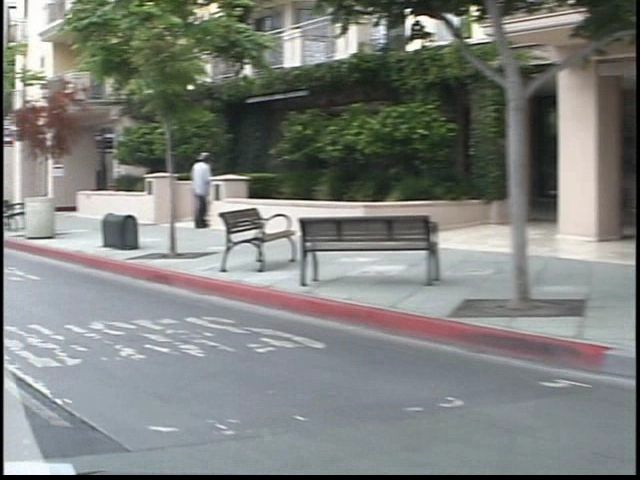person: (168, 147, 202, 238)
